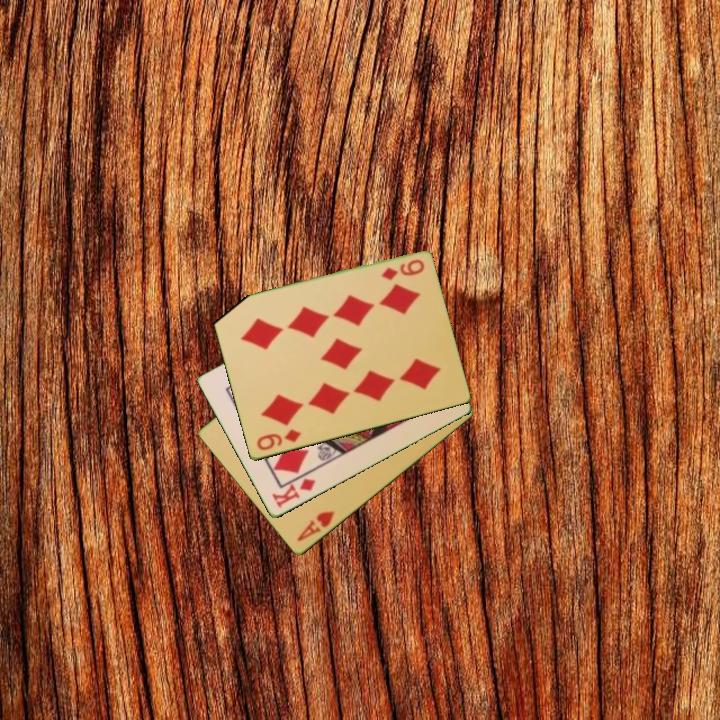9d: (253, 425, 304, 454), (377, 256, 427, 284)
Ah: (293, 508, 337, 545)
Kd: (268, 475, 318, 511)
